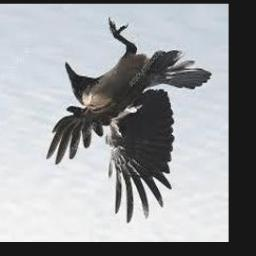Crow: (47, 17, 213, 224)
